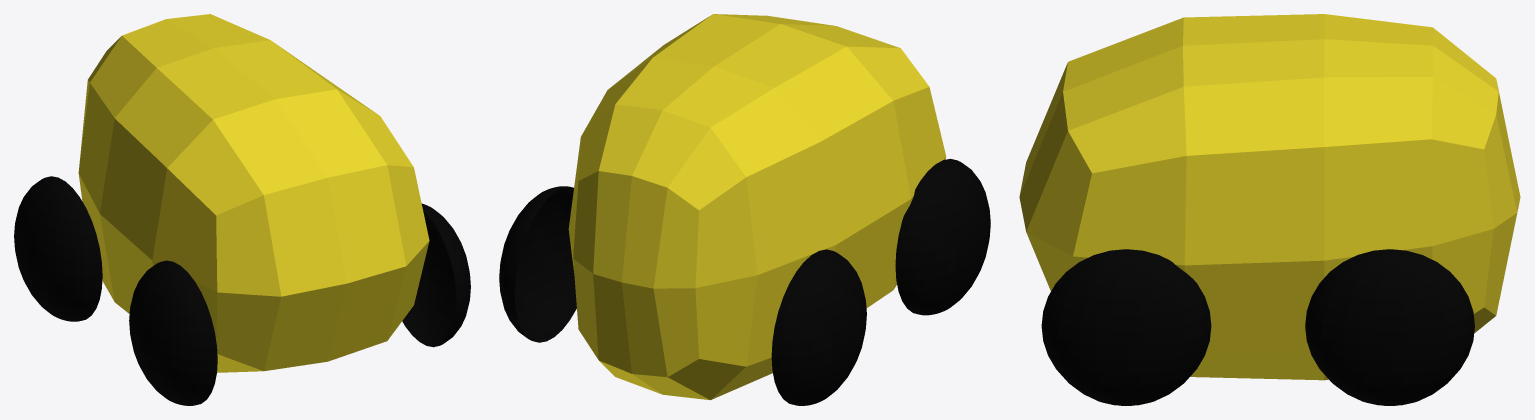
File: Car01.fbx
3 views of the same model, side by side, from view 1: azimuth 30°, elevation 25°; view 2: azimuth 150°, elevation 25°; view 3: azimuth 270°, elevation 25° (orthographic). The views are drawn at different scales.
Parts seen in each view (by area): view 1: Car01; view 2: Car01; view 3: Car01.
Boxes of the visible parts, bbox=[...] form: Car01: bbox=[14, 14, 470, 405]; Car01: bbox=[499, 14, 990, 405]; Car01: bbox=[1019, 14, 1520, 405].
Bounding box in the file's own units: 237 × 200 × 288.
